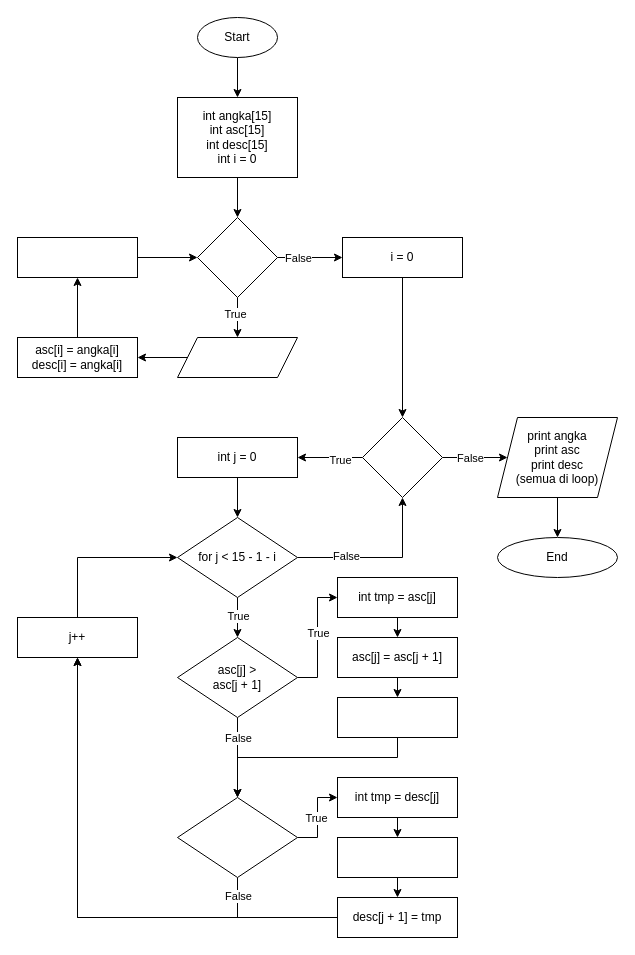
This 635x955 diagram has some shape labels left out. The centre of each missing label's shape, as x and y in pixels:
"asc[j + 1] = tmp" belongs at point (397, 717).
"desc[j] < desc[j + 1]" belongs at point (237, 837).
"desc[j] = desc[j + 1]" belongs at point (397, 857).
"for i < 15" belongs at point (237, 257).
"for i < 15 - 1" belongs at point (402, 457).
"i++" belongs at point (77, 257).
"input angka[i]" belongs at point (237, 357).
